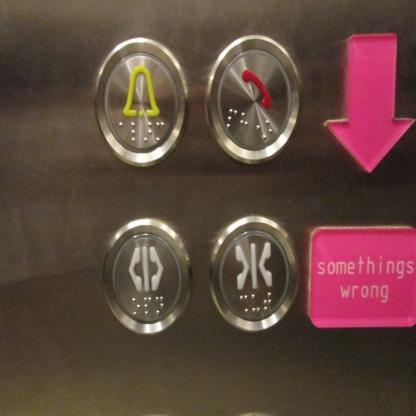alarm: (89, 31, 189, 173)
call: (204, 26, 303, 168)
close: (202, 214, 299, 336)
open: (97, 214, 194, 337)
